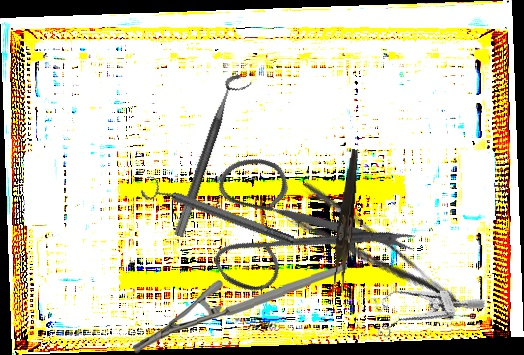Dressing Forceps: (280, 178, 465, 336), (331, 148, 361, 294)
Fixation Ring: (172, 71, 254, 243), (138, 172, 299, 255)
Iris Scissors: (174, 100, 424, 345)
Needle Holder: (130, 263, 350, 354)
Speculum: (362, 261, 487, 348)
